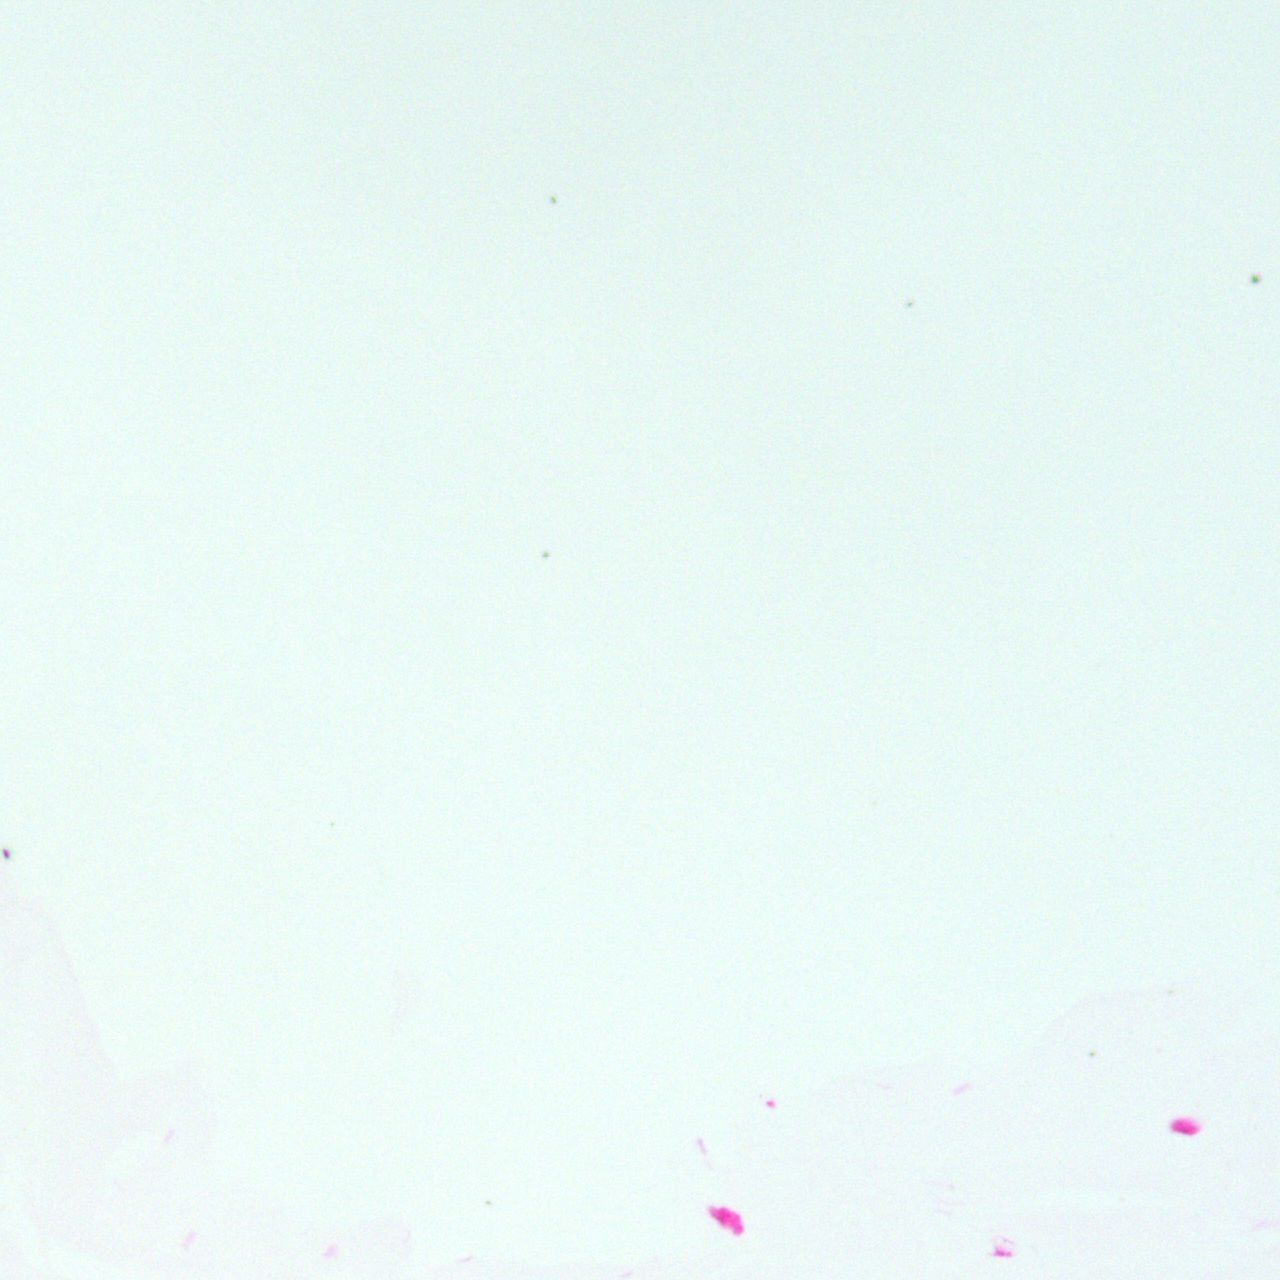dust: (1251, 274, 1260, 282), (1090, 1052, 1094, 1056)
nucleus-FG: (1170, 1115, 1200, 1137)
